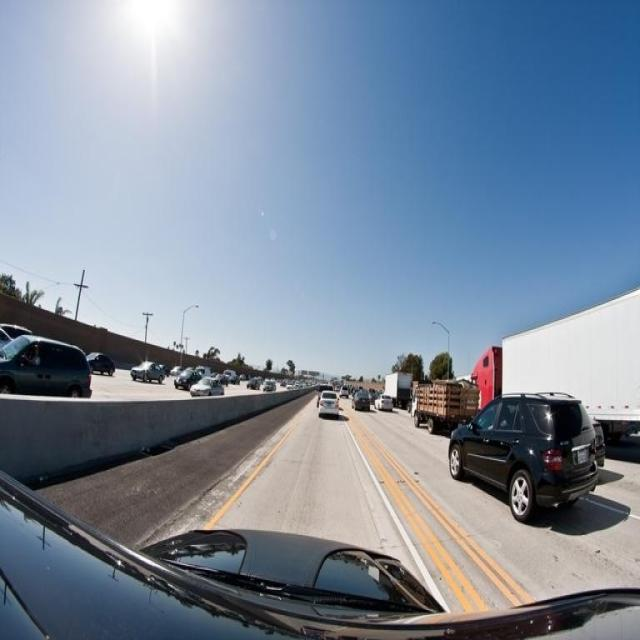Caminhao: (465, 288, 639, 424), (411, 382, 473, 435), (382, 372, 414, 404)
Carro Branco: (375, 394, 392, 413)
Carro Prata: (318, 388, 340, 420)
Carro Preto: (446, 390, 596, 530), (352, 390, 369, 415)
